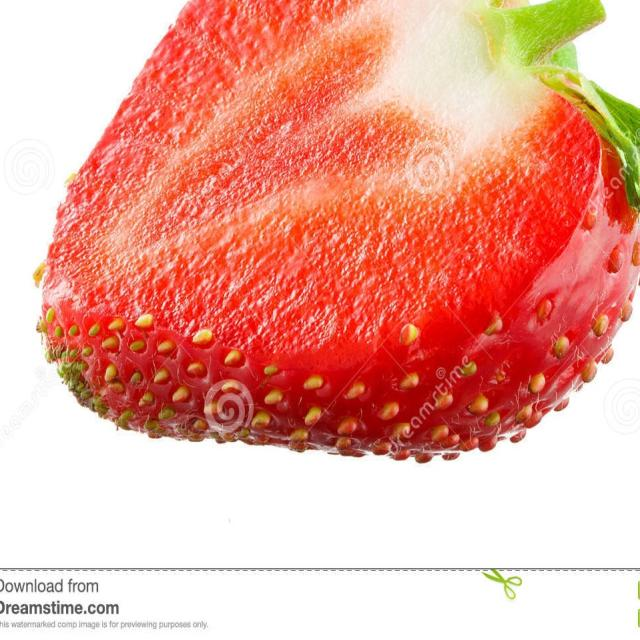strawberry: (26, 0, 640, 467)
